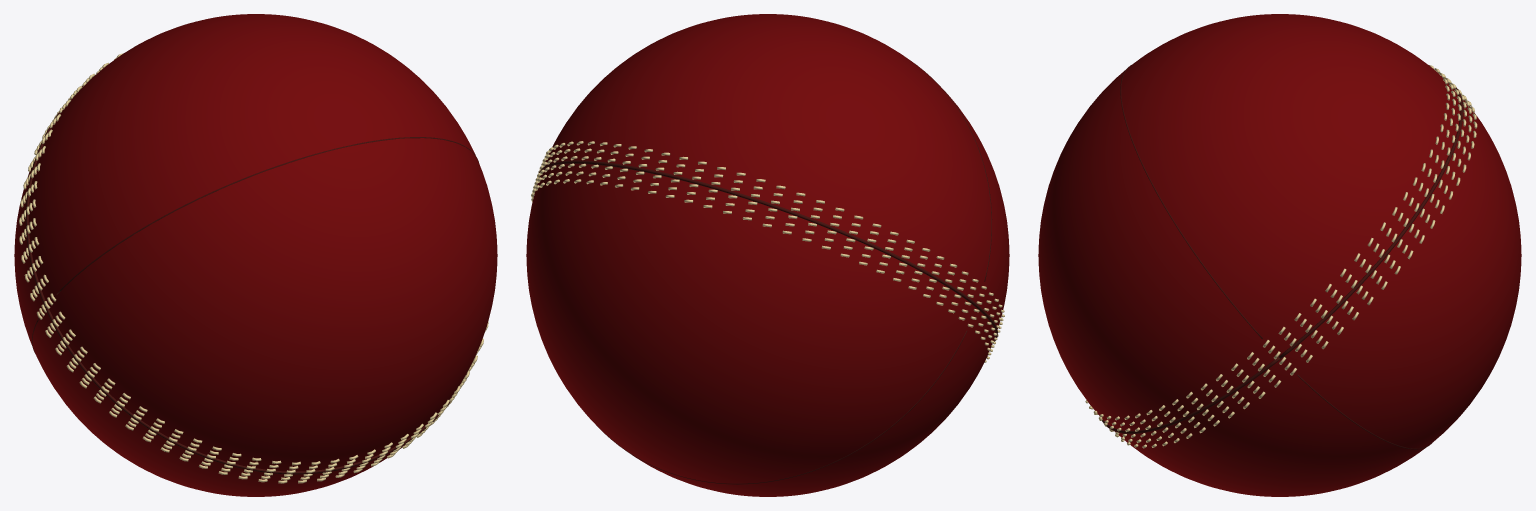
3 views of the same model, side by side, from view 1: azimuth 30°, elevation 25°; view 2: azimuth 150°, elevation 25°; view 3: azimuth 270°, elevation 25° (orthographic).
Visible parts, largest first — view 1: MESH_cricket-ball; view 2: MESH_cricket-ball; view 3: MESH_cricket-ball.
Boxes of the visible parts, x1,y1,x2,y2 form: MESH_cricket-ball: (14, 14, 497, 496); MESH_cricket-ball: (526, 14, 1009, 496); MESH_cricket-ball: (1038, 14, 1521, 496).
Size of the model in its own units: 0.073 by 0.0721 by 0.0721.
